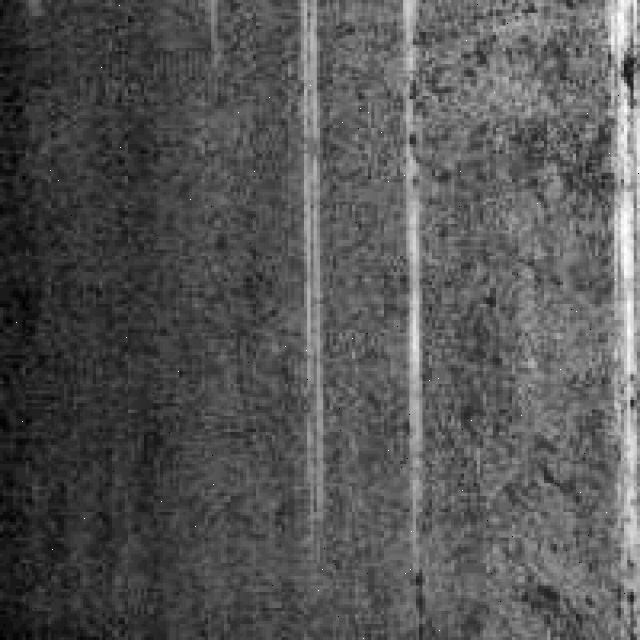Inclusion: (400, 9, 435, 556), (298, 0, 332, 512)
